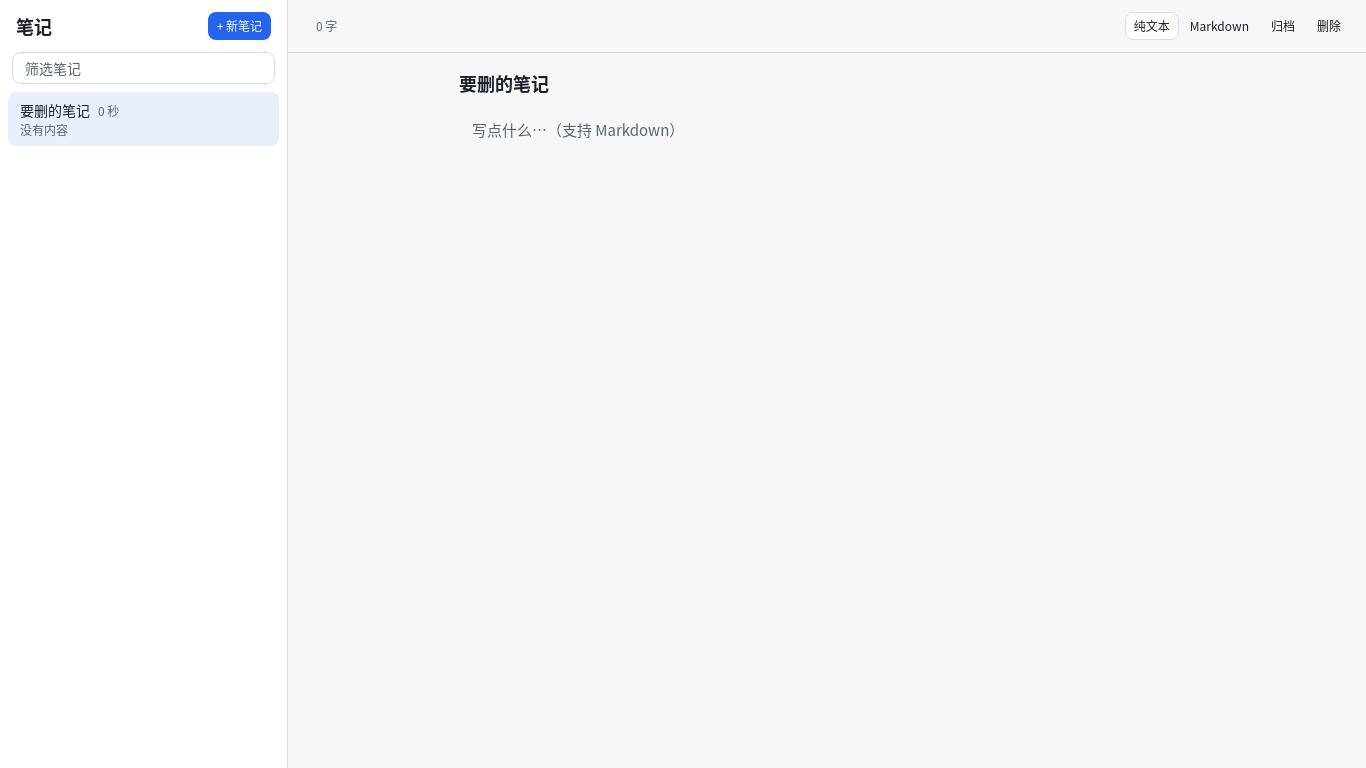
Test: 从各处删除 › 笔记编辑区的「删除」：笔记离开列表
Expected: the field named "标题" is shown, [459, 69, 1195, 97]
Click the button "删除". click: (1329, 26)
box: [1308, 12, 1350, 40]
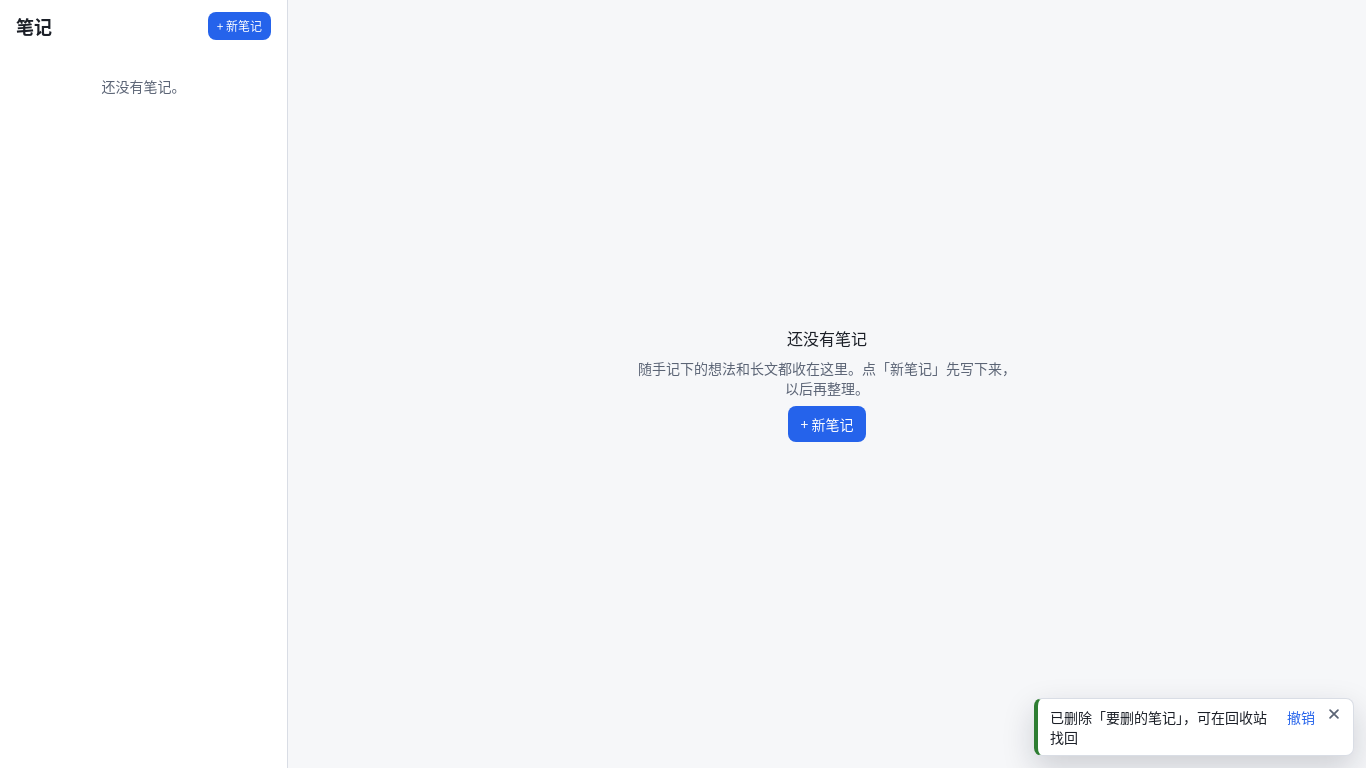
Expected: the text "还没有笔记" is shown, [787, 326, 867, 350]
